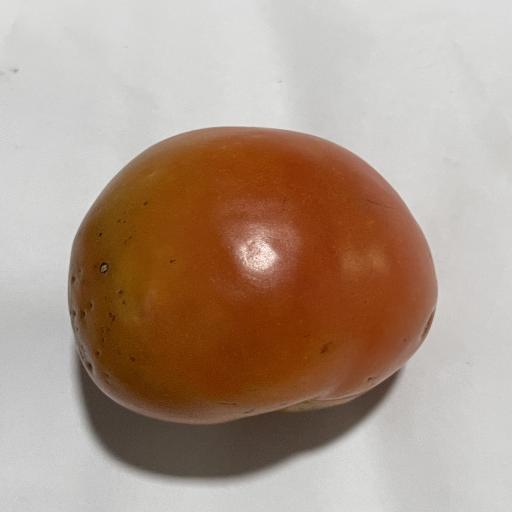overipe: (68, 127, 437, 424)
